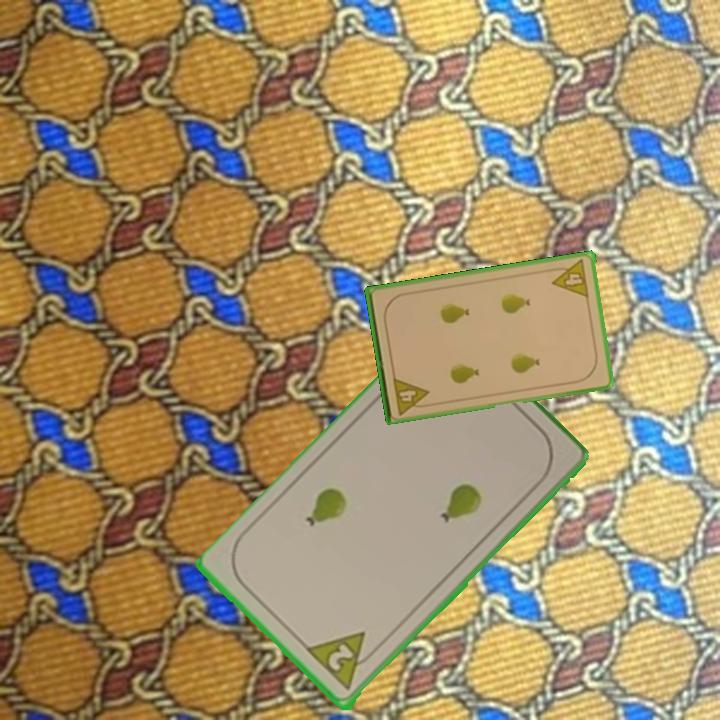2p: (304, 628, 383, 694)
4p: (548, 256, 592, 301), (389, 373, 433, 418)
